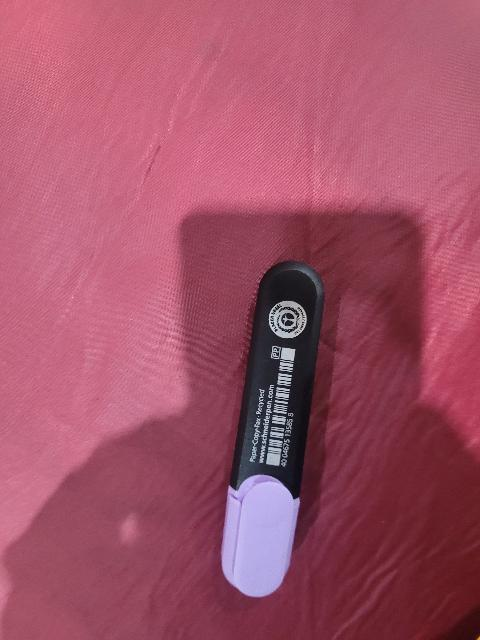Plastik: (224, 259, 325, 594)
